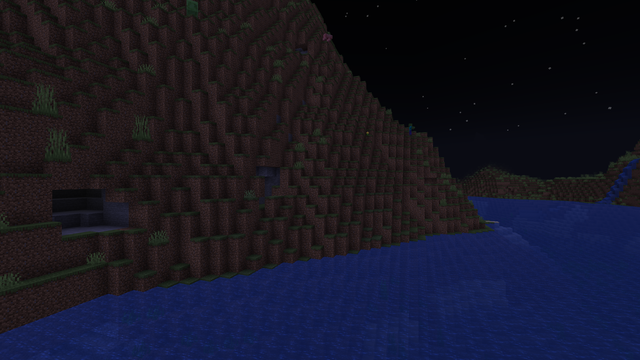cochons: (323, 32, 330, 41)
slimes: (183, 0, 199, 16)
zombies: (408, 123, 411, 135)
